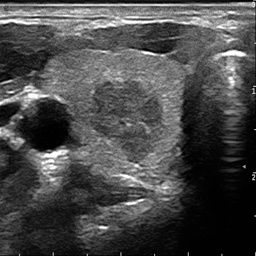mass: (93, 82, 162, 159)
